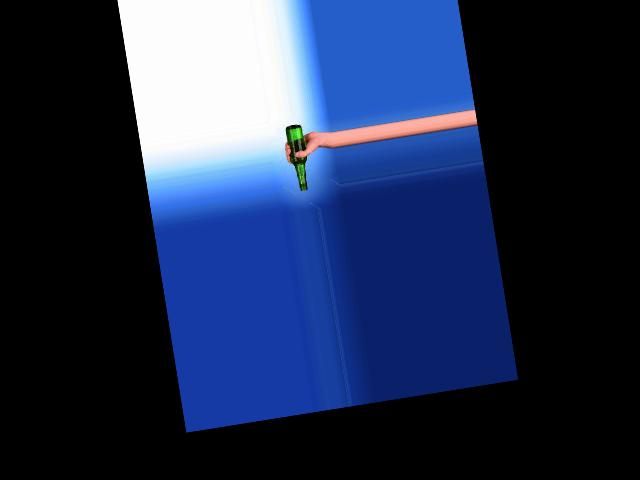beer: (285, 123, 311, 192)
